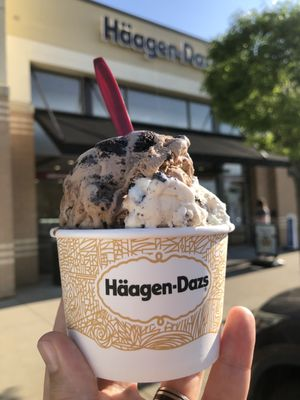pizza: (49, 128, 234, 400)
